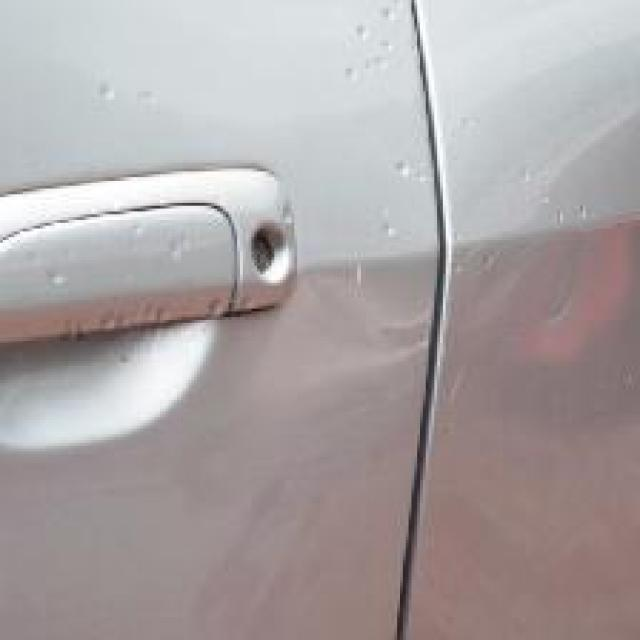damaged: (314, 242, 617, 374)
